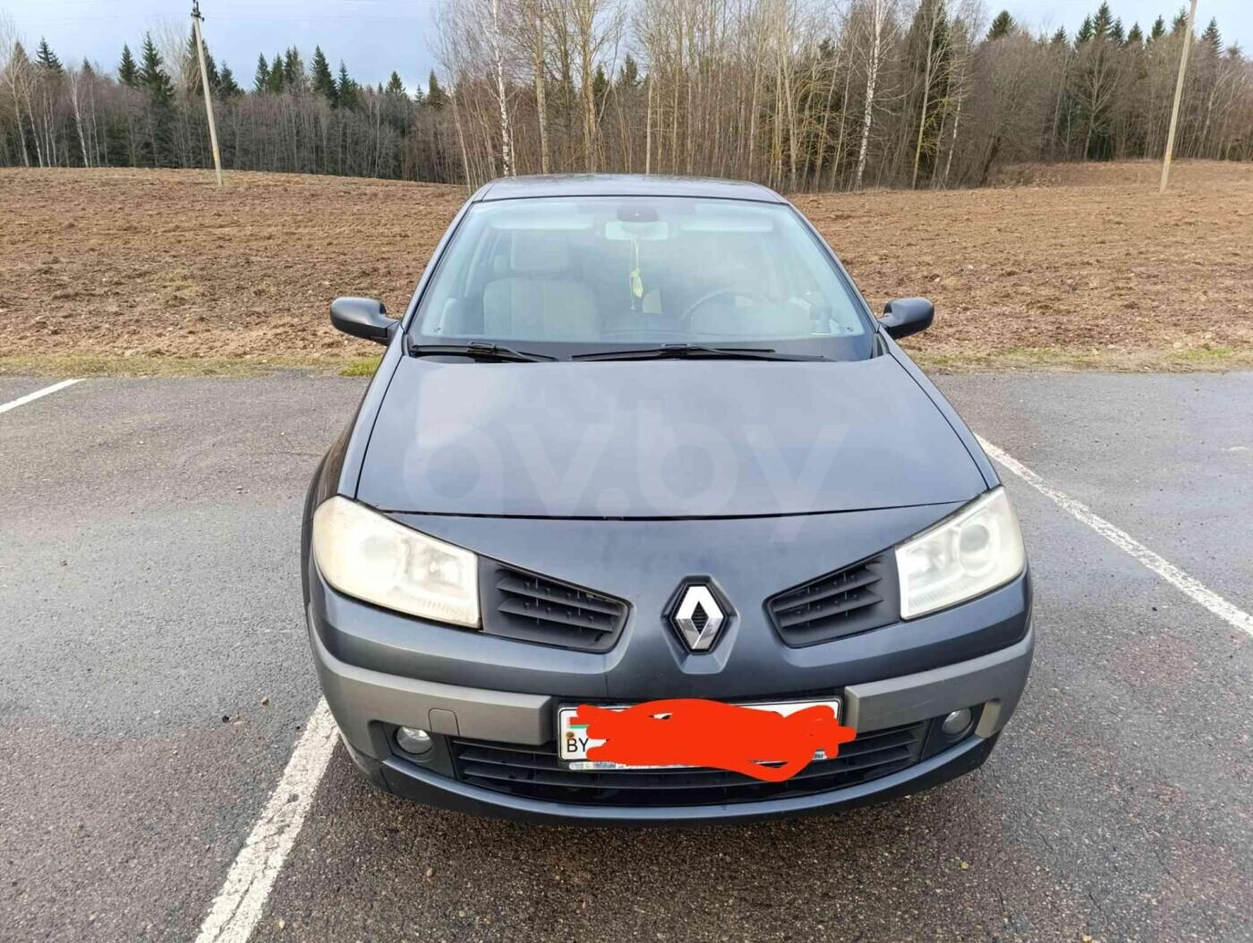Megane_2005-2009: (299, 167, 1046, 835)
